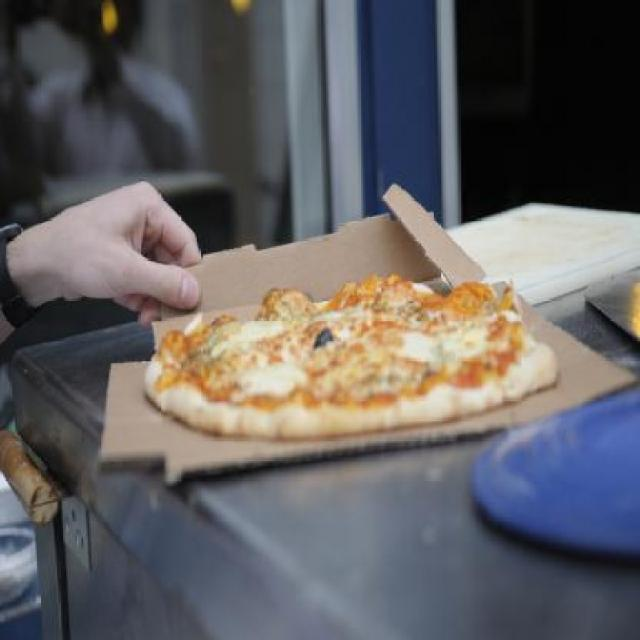Pizza: (146, 274, 560, 423)
